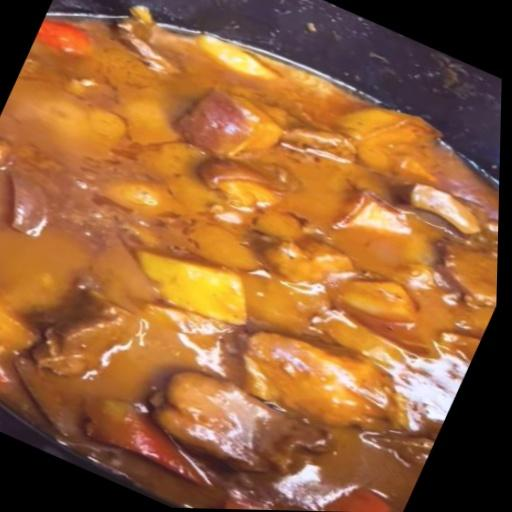pork caldereta: (0, 19, 496, 511)
